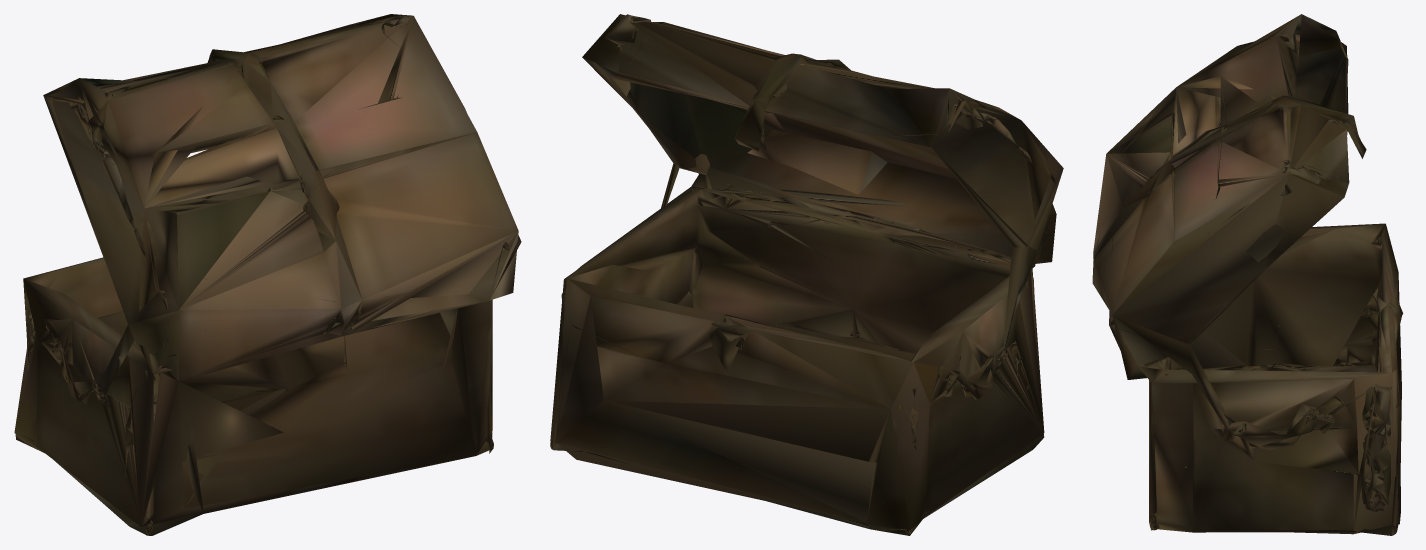
The model's file is prop_crate_01.glb.
3 renders of one model, left to right at view 1: azimuth 30°, elevation 25°; view 2: azimuth 150°, elevation 25°; view 3: azimuth 270°, elevation 25°, orthographic. The views are drawn at different scales.
Visible parts, largest first — view 1: geometry_0; view 2: geometry_0; view 3: geometry_0.
Boxes of the visible parts, bbox=[...] form: geometry_0: bbox=[14, 14, 521, 535]; geometry_0: bbox=[550, 14, 1063, 535]; geometry_0: bbox=[1092, 14, 1403, 535].
Bounding box in the file's own units: 0.9382 × 0.9944 × 0.7719.
Materials: 1 (1 with a texture image).
